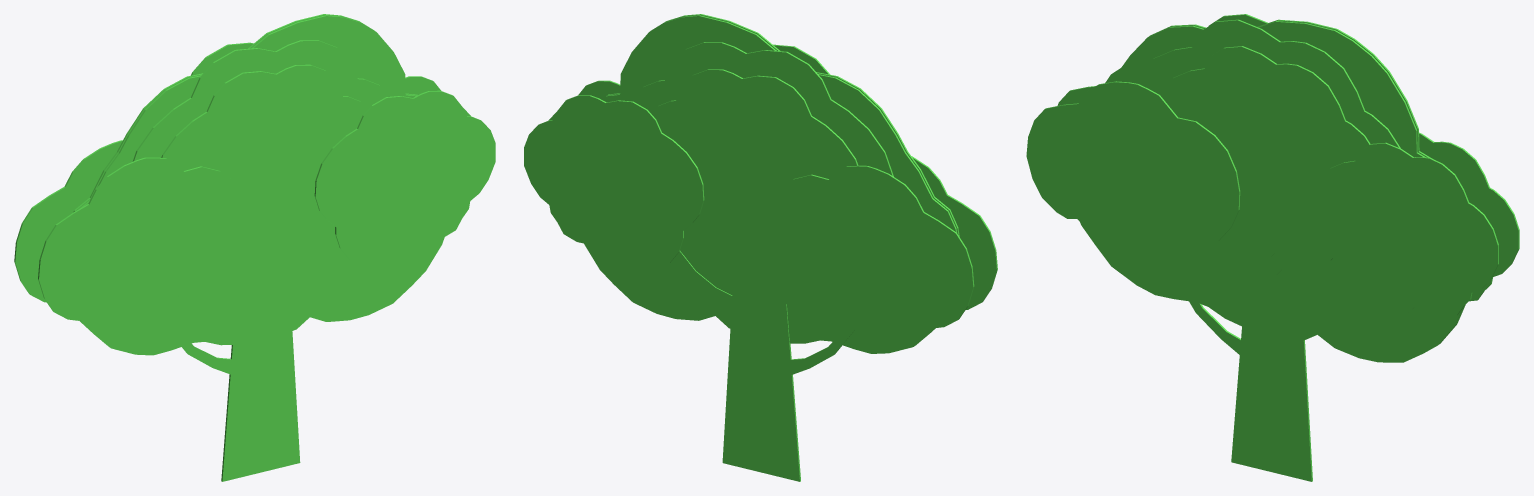
Rendered from arbre2.fbx.
3 views of the same model, side by side, from view 1: azimuth 30°, elevation 25°; view 2: azimuth 150°, elevation 25°; view 3: azimuth 330°, elevation 25° (orthographic). The views are drawn at different scales.
Visible parts, largest first — view 1: feuilles.001, tronc.001; view 2: feuilles.001, tronc.001; view 3: feuilles.001, tronc.001.
Boxes of the visible parts, x1,y1,x2,y2 form: feuilles.001: (14,14,495,355); tronc.001: (182,331,300,481); feuilles.001: (524,14,997,353); tronc.001: (676,251,876,481); feuilles.001: (1026,14,1519,362); tronc.001: (1189,301,1312,481).
Bounding box in the file's own units: 130 × 121 × 12.67.
